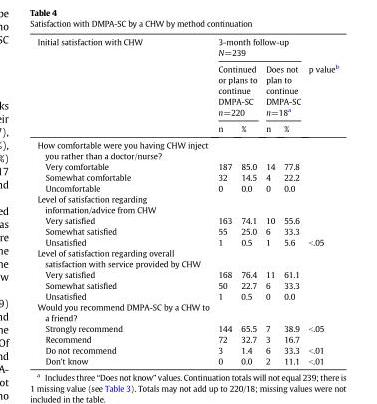table: (36, 36, 337, 365)
table column: (36, 36, 213, 365), (304, 36, 337, 365), (278, 36, 304, 365), (235, 36, 260, 365), (213, 36, 235, 365), (260, 36, 278, 365)
table column header: (36, 36, 337, 136)
table projected row header: (36, 136, 337, 160), (36, 193, 337, 214), (36, 247, 337, 268), (36, 301, 337, 322)
table row: (36, 59, 337, 119), (36, 136, 337, 160), (36, 36, 337, 59), (36, 193, 337, 214), (36, 247, 337, 268), (36, 301, 337, 322), (36, 119, 337, 136), (36, 160, 337, 171), (36, 171, 337, 182), (36, 182, 337, 193), (36, 214, 337, 225), (36, 225, 337, 236), (36, 236, 337, 247), (36, 268, 337, 279), (36, 279, 337, 290), (36, 290, 337, 301), (36, 322, 337, 333), (36, 333, 337, 344), (36, 344, 337, 355), (36, 355, 337, 365)
table spanning cell: (36, 36, 213, 136), (304, 36, 337, 136), (213, 59, 260, 119), (260, 59, 304, 119), (213, 36, 304, 59)
